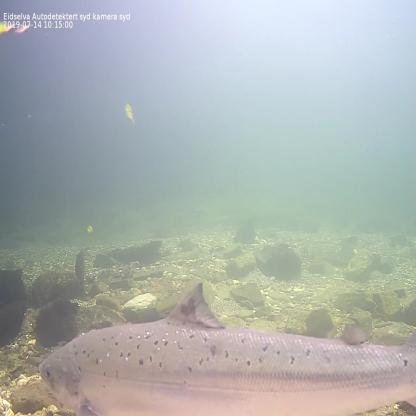salmon: (36, 278, 415, 416)
